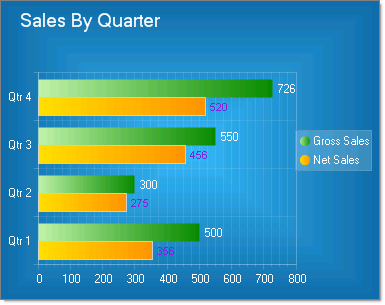canvas: (41, 75, 295, 262)
legend: (295, 126, 375, 172)
title: (19, 9, 163, 34)
x-axis: (35, 261, 300, 270)
x-labels: (35, 272, 307, 286)
y-axis: (33, 70, 41, 271)
y-labels: (5, 76, 31, 263)
